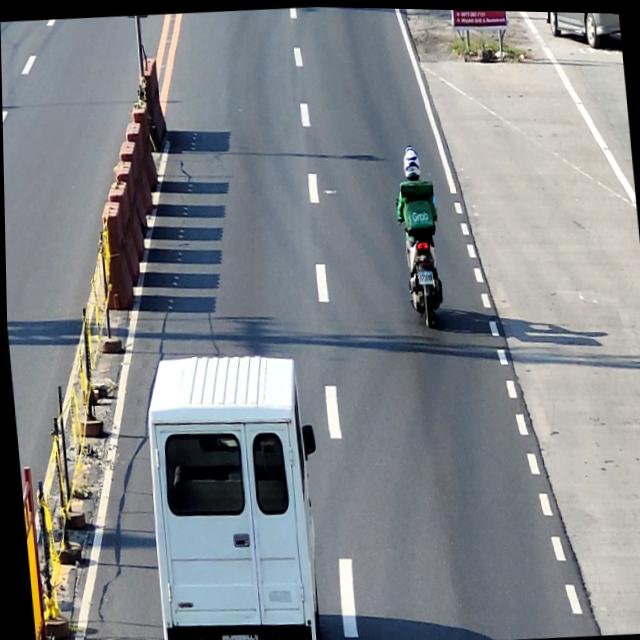Car: (136, 347, 330, 640)
License-Plate: (218, 630, 256, 640), (416, 267, 433, 283)
Motorcycle: (394, 189, 447, 328)
